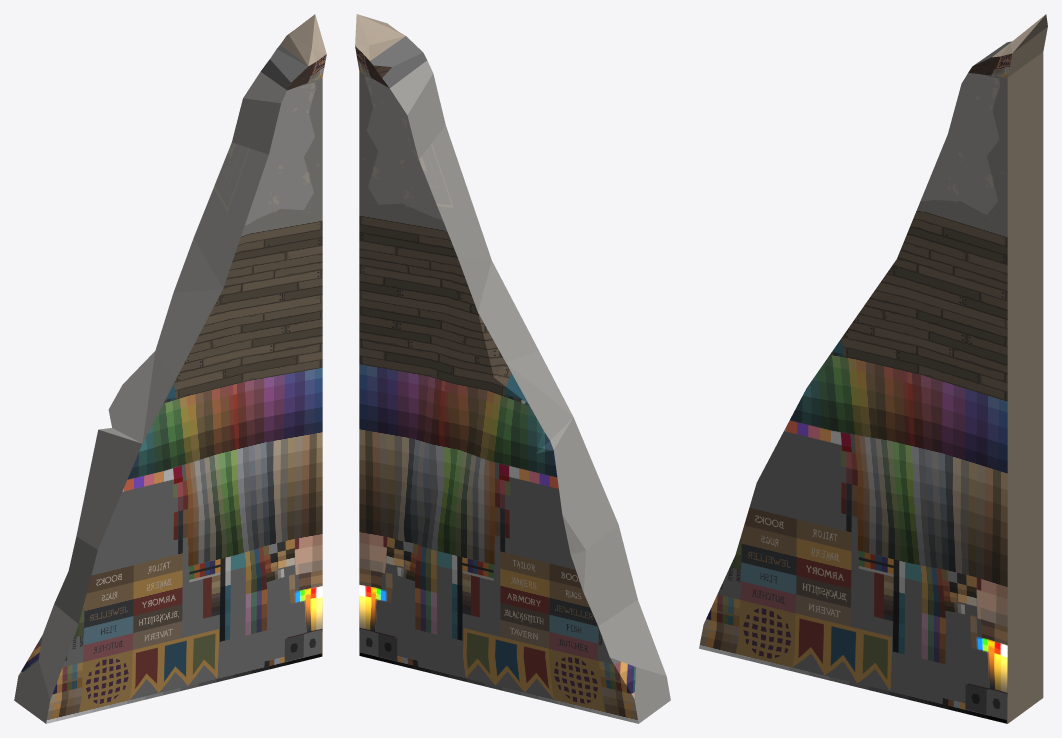
File: castle_ruin_middle.gltf
3 views of the same model, side by side, from view 1: azimuth 30°, elevation 25°; view 2: azimuth 150°, elevation 25°; view 3: azimuth 330°, elevation 25° (orthographic). The views are drawn at different scales.
Visible parts, largest first — view 1: castle_ruin_middle; view 2: castle_ruin_middle; view 3: castle_ruin_middle.
Boxes of the visible parts, x1,y1,x2,y2 form: castle_ruin_middle: [14, 14, 326, 723]; castle_ruin_middle: [355, 14, 670, 723]; castle_ruin_middle: [699, 14, 1047, 723].
Bounding box in the file's own units: 2.62 × 5.39 × 0.5088.
1 material, 1 textured.
